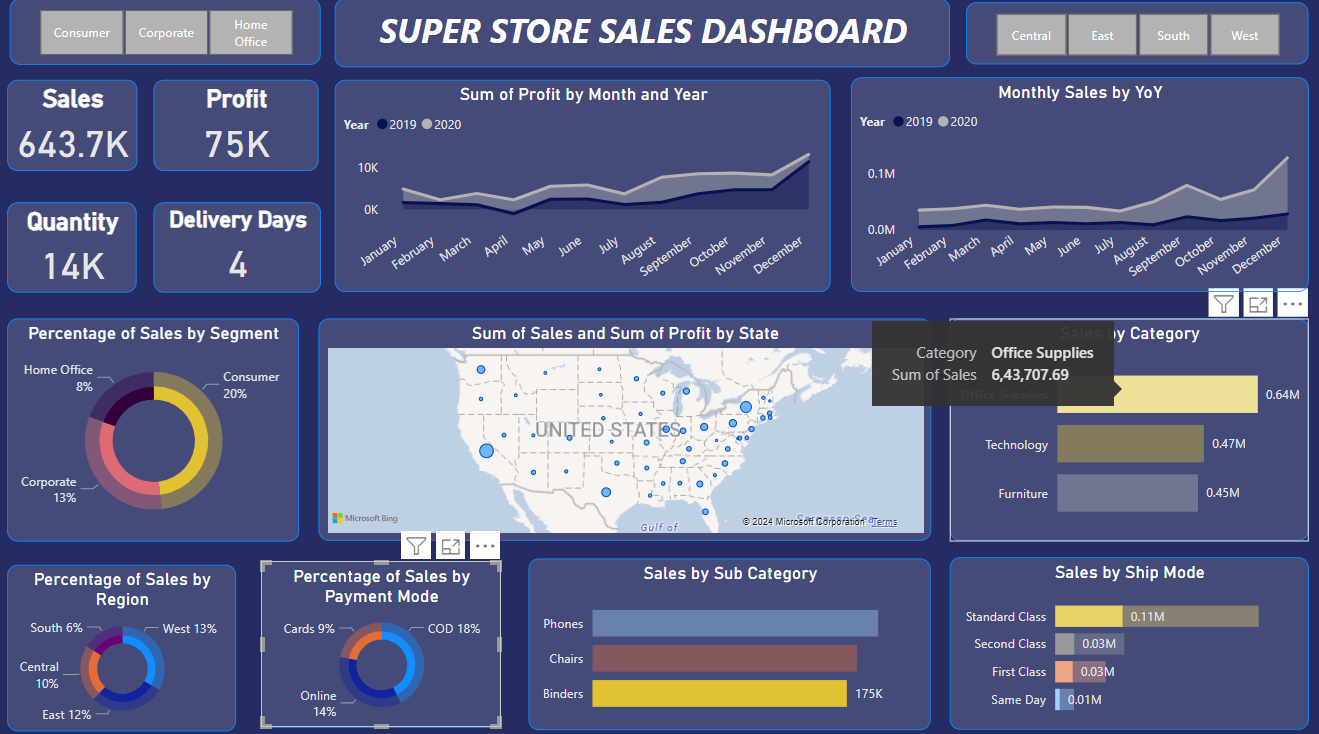

This screenshot's page, from the dashboard's own definition file:
{"tool":"powerbi","page":{"name":"Page 1","canvas":[1280,720],"ordinal":0},"visuals":[{"type":"clusteredBarChart","title":"Sales by Category","fields":{"Category":["SuperStore_Sales_Dataset.Category"],"Y":["Sum(SuperStore_Sales_Dataset.Sales)"]},"box":[920.2,311.2,346.1,214.7],"z":0},{"type":"clusteredBarChart","title":"Sales by Sub Category","fields":{"Category":["SuperStore_Sales_Dataset.Sub-Category"],"Y":["Sum(SuperStore_Sales_Dataset.Sales)"]},"box":[513.8,542.7,388.3,165.2],"z":1000},{"type":"clusteredBarChart","title":"Sales by Ship Mode","fields":{"Category":["SuperStore_Sales_Dataset.Ship Mode"],"Y":["Sum(SuperStore_Sales_Dataset.Sales)"]},"box":[920,541.2,346.2,166.2],"z":2000},{"type":"stackedAreaChart","title":"Monthly Sales by YoY","fields":{"Y":["Sum(SuperStore_Sales_Dataset.Sales)"],"Category":["SuperStore_Sales_Dataset.Order Date.Variation.Date Hierarchy.Month","SuperStore_Sales_Dataset.Order Date.Variation.Date Hierarchy.Day"],"Series":["SuperStore_Sales_Dataset.Order Date.Variation.Date Hierarchy.Year"]},"box":[825,78.8,441.2,207.5],"z":3000},{"type":"stackedAreaChart","fields":{"Category":["SuperStore_Sales_Dataset.Order Date.Variation.Date Hierarchy.Month","SuperStore_Sales_Dataset.Order Date.Variation.Date Hierarchy.Day"],"Series":["SuperStore_Sales_Dataset.Order Date.Variation.Date Hierarchy.Year"],"Y":["Sum(SuperStore_Sales_Dataset.Profit)"]},"box":[326.2,81.2,478.8,205],"z":4000},{"type":"map","fields":{"Category":["SuperStore_Sales_Dataset.State"],"Size":["Sum(SuperStore_Sales_Dataset.Sales)"]},"box":[311.2,311.2,591,214.7],"z":5000},{"type":"donutChart","title":"Percentage of Sales by Segment","fields":{"Category":["SuperStore_Sales_Dataset.Segment"],"Y":["Sum(SuperStore_Sales_Dataset.Sales)"]},"box":[11.2,311.2,281.2,215],"z":6000},{"type":"donutChart","title":"Percentage of Sales by Payment Mode","fields":{"Category":["SuperStore_Sales_Dataset.Payment Mode"],"Y":["Sum(SuperStore_Sales_Dataset.Sales)"]},"box":[255.7,545.1,231.6,160.4],"z":7000},{"type":"slicer","fields":{"Values":["SuperStore_Sales_Dataset.Region"]},"box":[936.2,6.2,330,60],"z":8000},{"type":"textbox","box":[326.2,2.5,593.8,66.2],"z":9000},{"type":"card","title":"Sales","fields":{"Values":["Sum(SuperStore_Sales_Dataset.Sales)"]},"box":[11.2,81.2,125,87.5],"z":10000},{"type":"card","title":"Quantity","fields":{"Values":["Sum(SuperStore_Sales_Dataset.Quantity)"]},"box":[11.2,198.8,125,87.5],"z":11000},{"type":"card","title":"Profit","fields":{"Values":["Sum(SuperStore_Sales_Dataset.Profit)"]},"box":[161.2,81.2,152.5,87.5],"z":12000},{"type":"card","title":"Delivery Days","fields":{"Values":["Avg(SuperStore_Sales_Dataset.AvgDelievery)"]},"box":[162.5,198.8,151.2,87.5],"z":13000},{"type":"donutChart","title":"Percentage of Sales by Region","fields":{"Category":["SuperStore_Sales_Dataset.Region"],"Y":["Sum(SuperStore_Sales_Dataset.Sales)"]},"box":[10.9,548.7,220.7,160.4],"z":14000},{"type":"slicer","fields":{"Values":["SuperStore_Sales_Dataset.Segment"]},"box":[11.2,2.5,300,63.8],"z":15000}]}

Visuals, with their boxes in screenshot pixels (x1, y1, x2, y2), scaled from the page's 1280x720 canvas onto the 1319x734 screenshot:
"Sales by Category" clusteredBarChart: 948:317:1305:536
"Sales by Sub Category" clusteredBarChart: 529:553:930:722
"Sales by Ship Mode" clusteredBarChart: 948:552:1305:721
"Monthly Sales by YoY" stackedAreaChart: 850:80:1305:292
stackedAreaChart - SuperStore_Sales_Dataset.Order Date.Variation.Date Hierarchy.Month x SuperStore_Sales_Dataset.Order Date.Variation.Date Hierarchy.Day: 336:83:830:292
map - SuperStore_Sales_Dataset.State x Sum(SuperStore_Sales_Dataset.Sales): 321:317:930:536
"Percentage of Sales by Segment" donutChart: 12:317:301:536
"Percentage of Sales by Payment Mode" donutChart: 263:556:502:719
slicer - SuperStore_Sales_Dataset.Region: 965:6:1305:67
textbox: 336:3:948:70
"Sales" card: 12:83:140:172
"Quantity" card: 12:203:140:292
"Profit" card: 166:83:323:172
"Delivery Days" card: 167:203:323:292
"Percentage of Sales by Region" donutChart: 11:559:239:723
slicer - SuperStore_Sales_Dataset.Segment: 12:3:321:68
